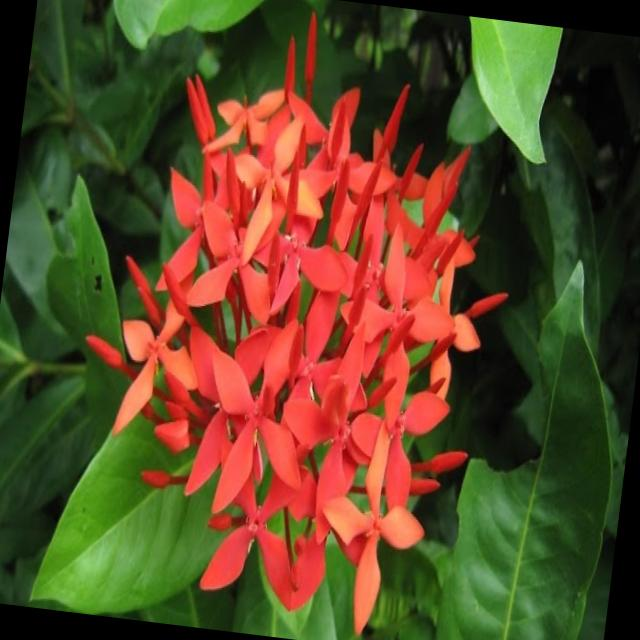Chinese-Ixora: (64, 12, 534, 620)
